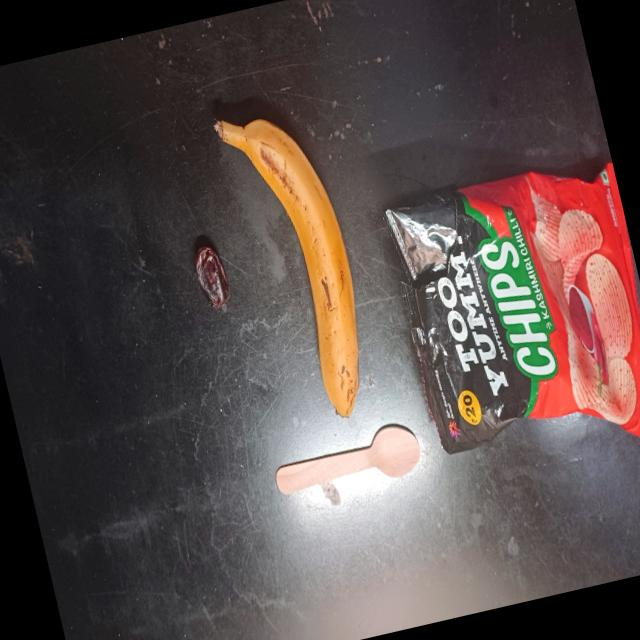Banana-Bio: (210, 92, 384, 434)
Date-Bio: (190, 242, 234, 312)
Plastic-NonBio: (374, 148, 640, 491)
Wooden Spoon-Bio: (267, 418, 426, 506)
